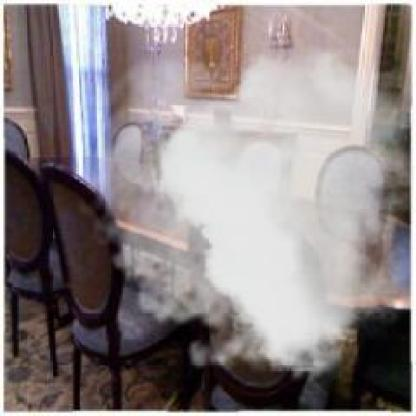Smoke: (69, 49, 415, 392)
